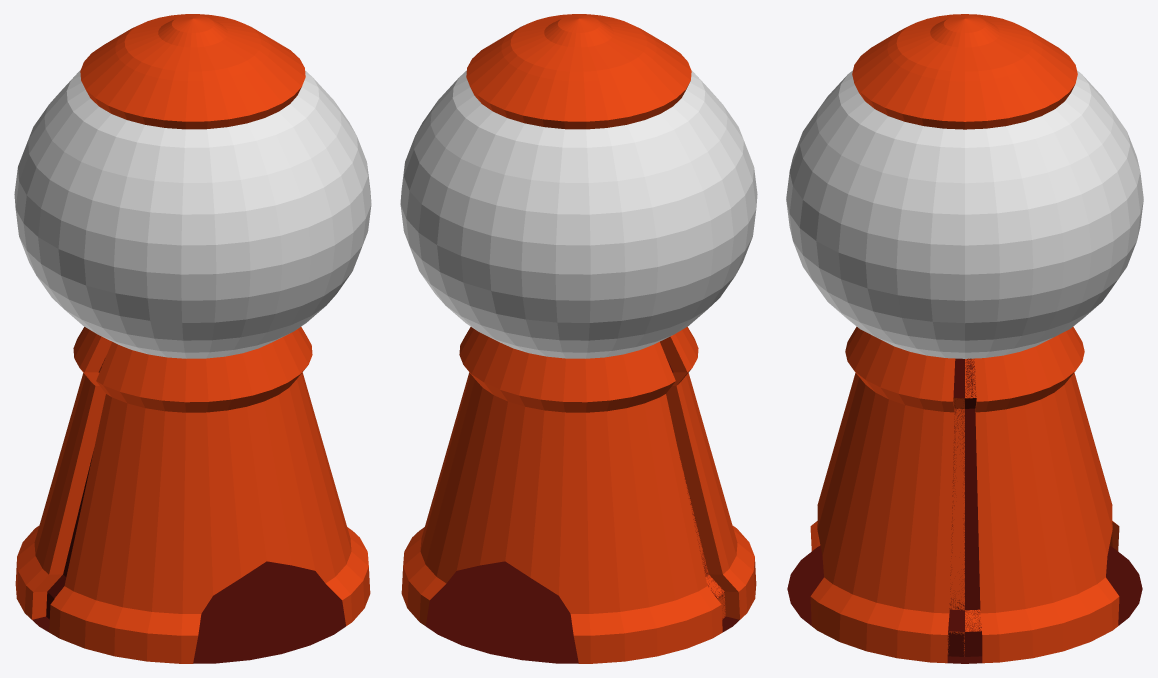
The model's file is G477Proj1GumballMachine.fbx.
3 renders of one model, left to right at view 1: azimuth 30°, elevation 25°; view 2: azimuth 150°, elevation 25°; view 3: azimuth 270°, elevation 25°, orthographic.
Visible parts, largest first — view 1: Cylinder.002, Sphere.001, Sphere; view 2: Cylinder.002, Sphere.001, Sphere; view 3: Cylinder.002, Sphere.001, Sphere.
Boxes of the visible parts, bbox=[...] form: Cylinder.002: bbox=[15, 327, 370, 663]; Sphere.001: bbox=[14, 70, 371, 358]; Sphere: bbox=[80, 14, 305, 129]; Cylinder.002: bbox=[401, 327, 756, 663]; Sphere.001: bbox=[400, 70, 757, 358]; Sphere: bbox=[466, 14, 691, 129]; Cylinder.002: bbox=[787, 326, 1142, 663]; Sphere.001: bbox=[786, 70, 1143, 358]; Sphere: bbox=[852, 14, 1077, 129].
Size of the model in its own units: 498 by 881 by 498.
